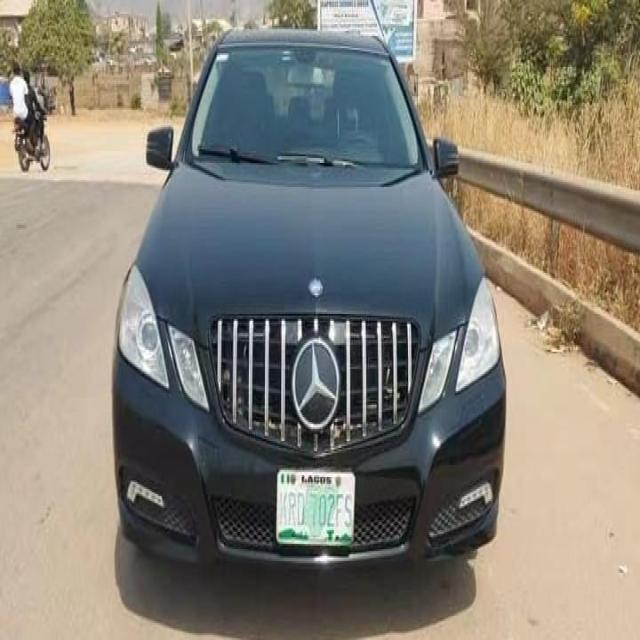Nigerian License Plate - vdataset benjamin-daria: (278, 468, 356, 546)
